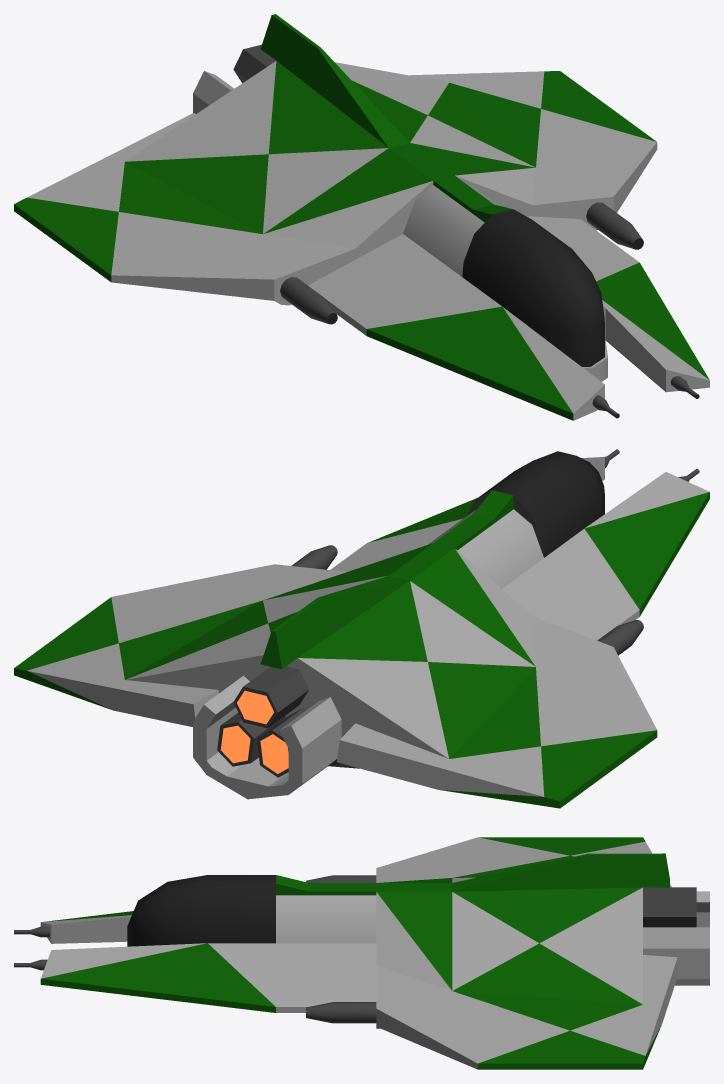
File: SpaceshipLoricF1 (1).fbx
3 views of the same model, one above another, from view 1: azimuth 30°, elevation 25°; view 2: azimuth 150°, elevation 25°; view 3: azimuth 270°, elevation 25° (orthographic). The views are drawn at different scales.
Parts seen in each view (by area): view 1: SpaceshipLoricF1; view 2: SpaceshipLoricF1; view 3: SpaceshipLoricF1.
Boxes of the visible parts, box(x1,y1,x2,y2) form: SpaceshipLoricF1: box(14, 14, 709, 420); SpaceshipLoricF1: box(14, 449, 709, 808); SpaceshipLoricF1: box(14, 837, 709, 1069).
Size of the model in its own units: 250 by 68.59 by 325.
